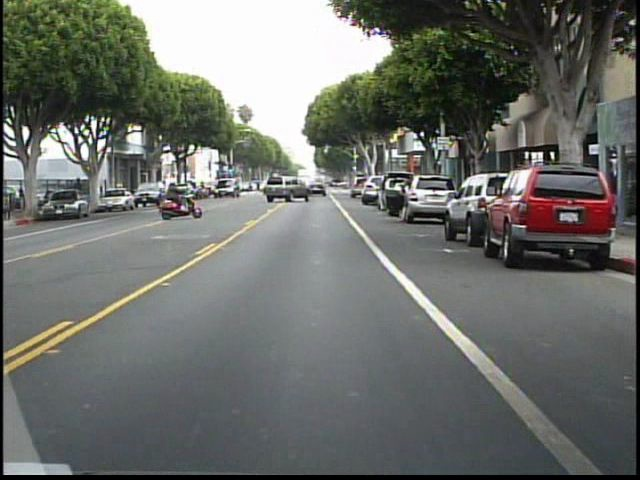person: (156, 177, 183, 215), (72, 172, 89, 210)
